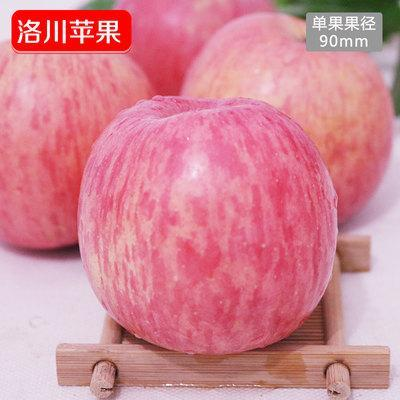apple: (82, 93, 338, 352), (181, 13, 393, 222), (1, 42, 156, 251), (118, 1, 271, 89)
